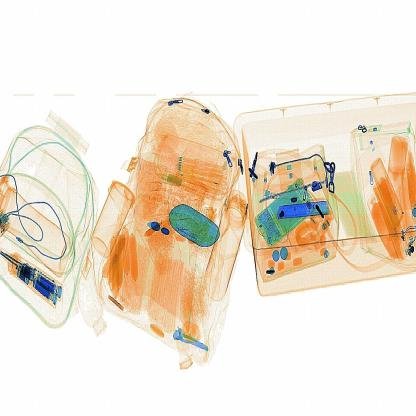pliers: (274, 201, 334, 221)
